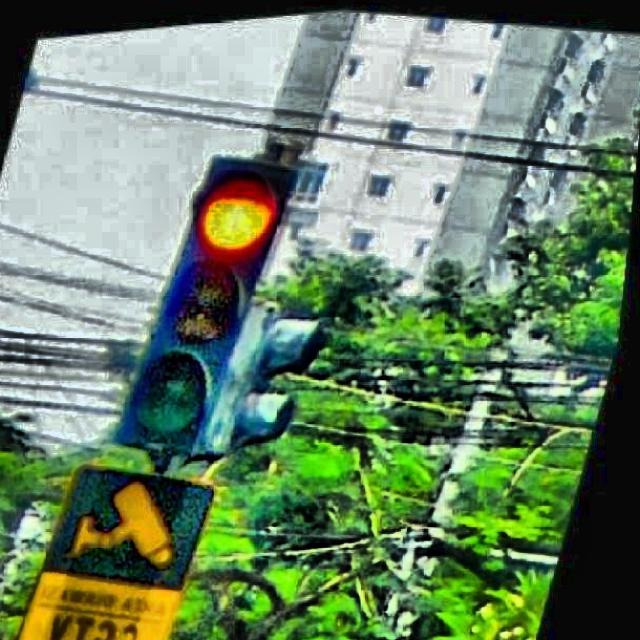red: (120, 160, 283, 443)
